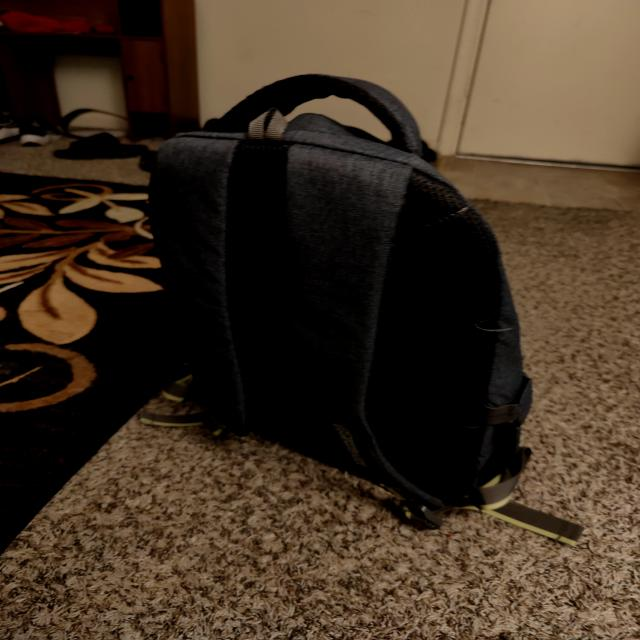bag: (166, 176, 486, 489)
